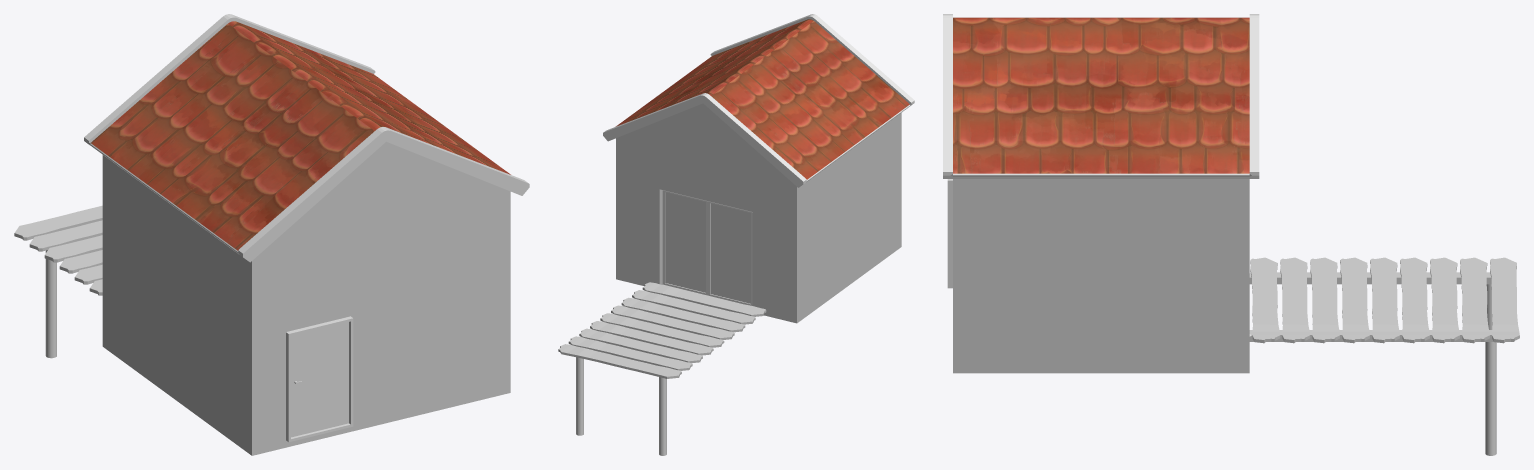
The model's file is dock4_Texture.fbx.
The picture shows the model from 3 angles, left to right: view 1: azimuth 30°, elevation 25°; view 2: azimuth 150°, elevation 25°; view 3: azimuth 270°, elevation 25°; orthographic projection. The views are drawn at different scales.
Parts seen in each view (by area): view 1: BuildingWalls, Roof, Door1, Plank, Cylinder; view 2: BuildingWalls, Roof, Plank, Door, Cylinder; view 3: BuildingWalls, Roof, Plank, Cylinder, Door1.
Boxes of the visible parts, <box> form: BuildingWalls: <box>102,141,510,455</box>; Roof: <box>84,14,529,262</box>; Door1: <box>286,316,353,442</box>; Plank: <box>14,205,102,295</box>; Cylinder: <box>45,250,56,358</box>; BuildingWalls: <box>616,103,901,323</box>; Roof: <box>603,14,914,187</box>; Plank: <box>558,282,766,378</box>; Door: <box>662,190,752,305</box>; Cylinder: <box>576,357,666,455</box>; BuildingWalls: <box>953,179,1493,373</box>; Roof: <box>943,14,1259,178</box>; Plank: <box>1250,257,1519,343</box>; Cylinder: <box>1485,284,1496,455</box>; Door1: <box>947,179,952,288</box>.
Bounding box in the file's own units: 886 × 1219 × 1554.
Materials: 4 (1 with a texture image).
